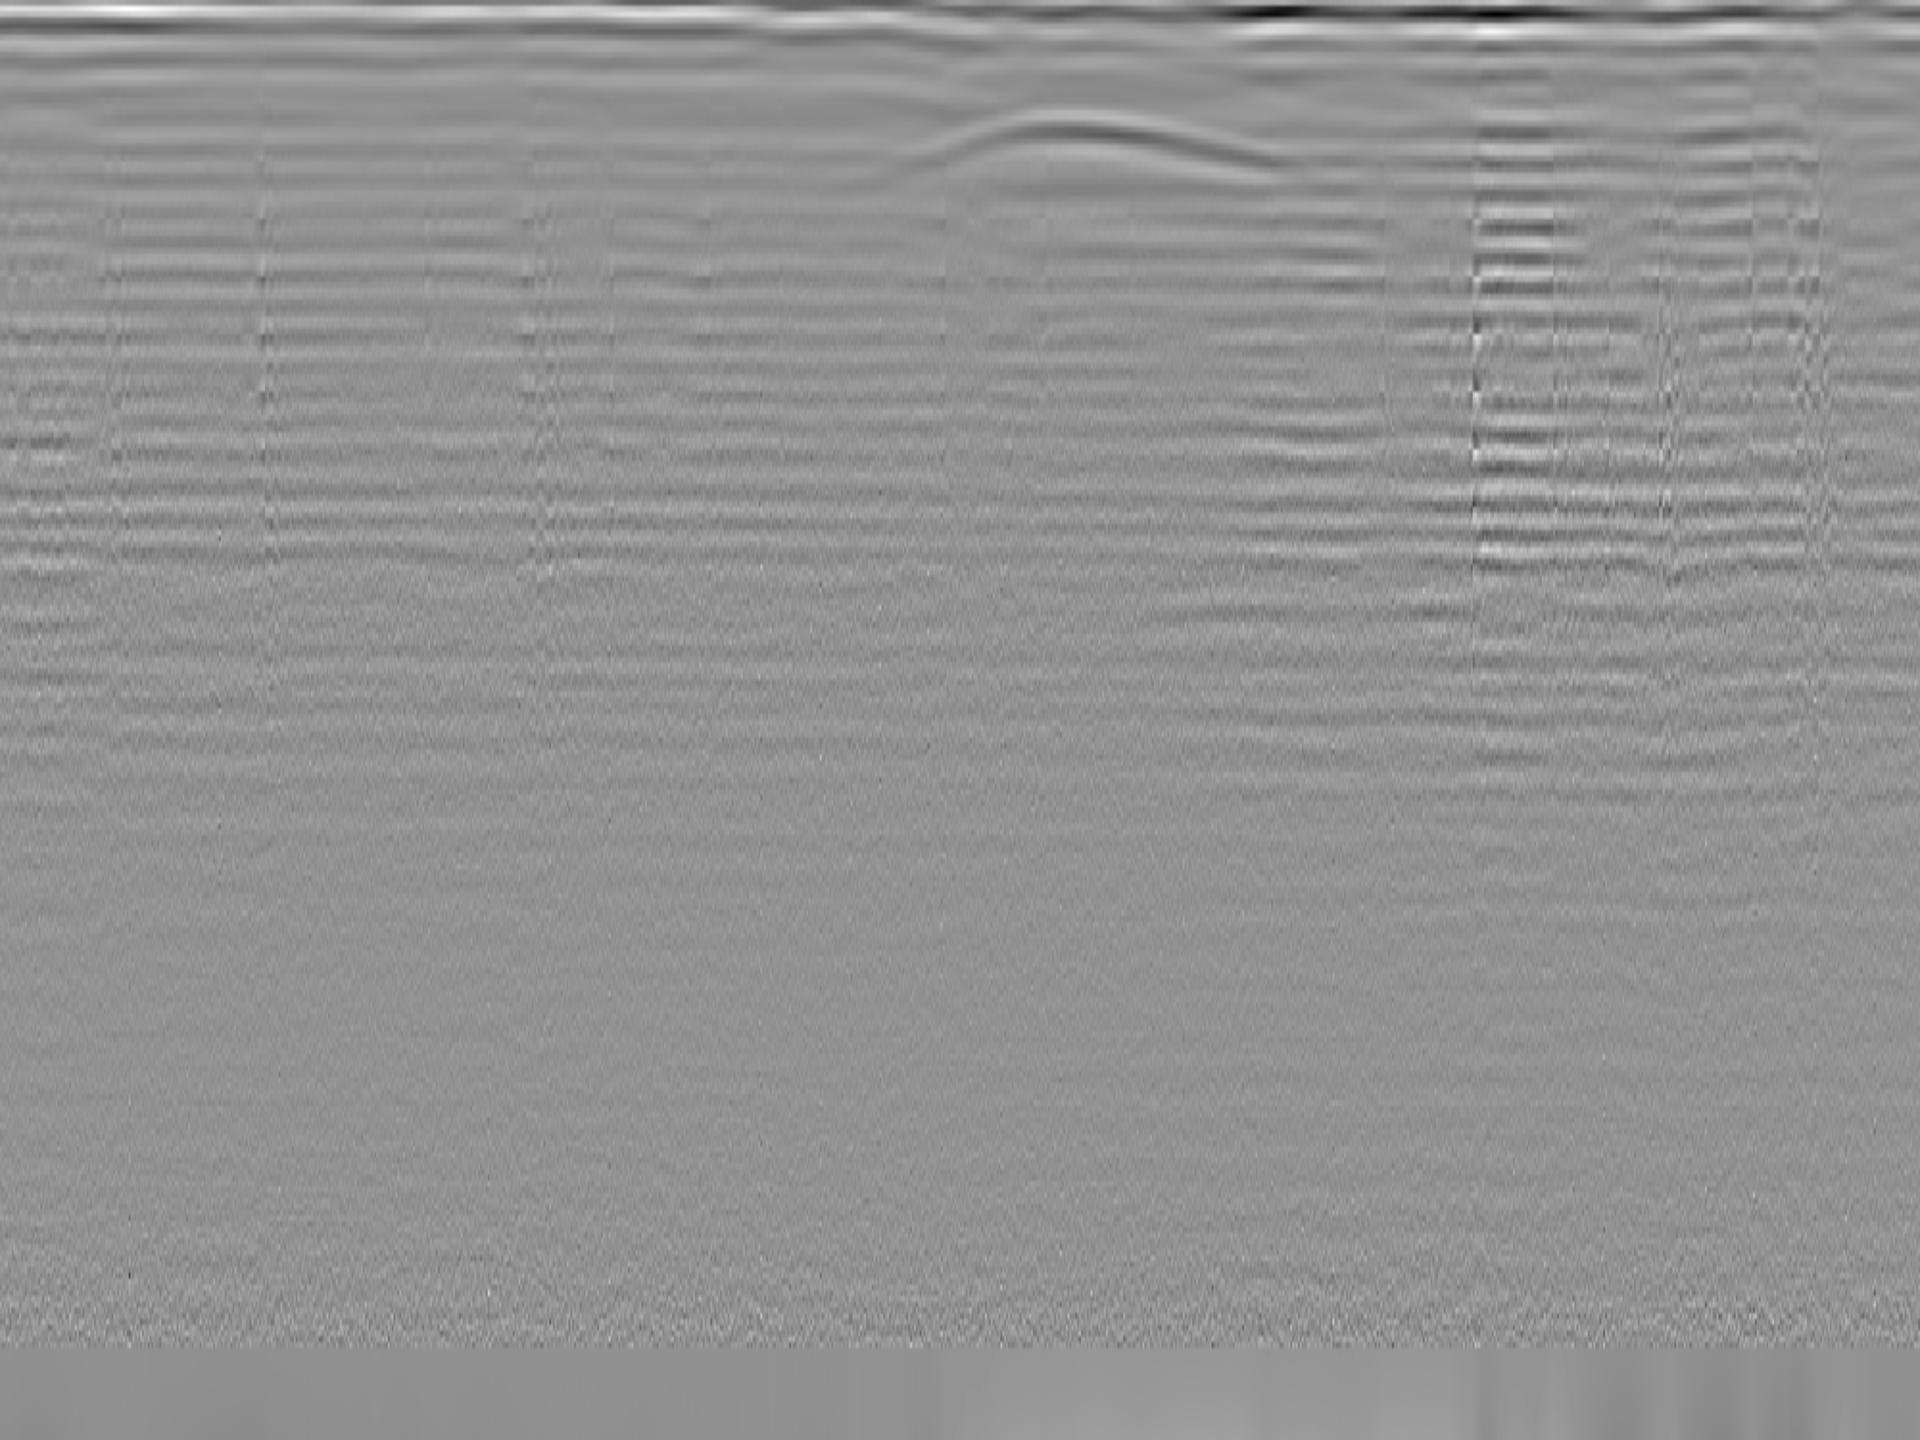Tunnel: (901, 106, 1308, 182)
